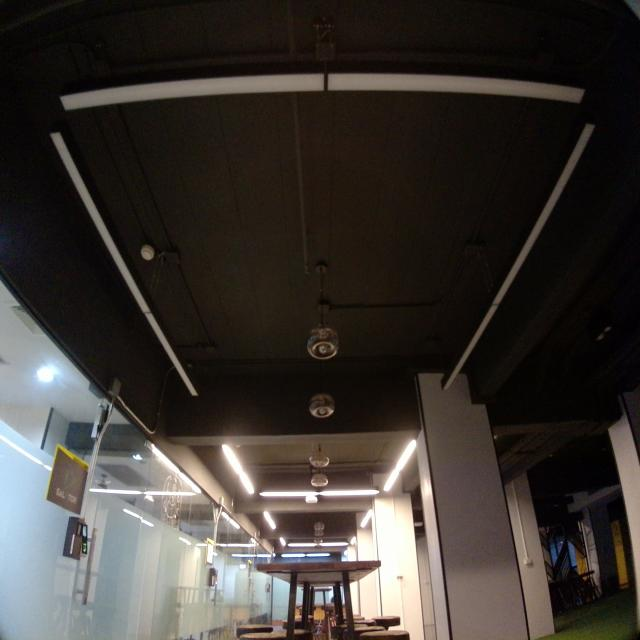lamp2_off: (432, 120, 606, 397), (42, 126, 206, 401), (51, 56, 602, 119)
